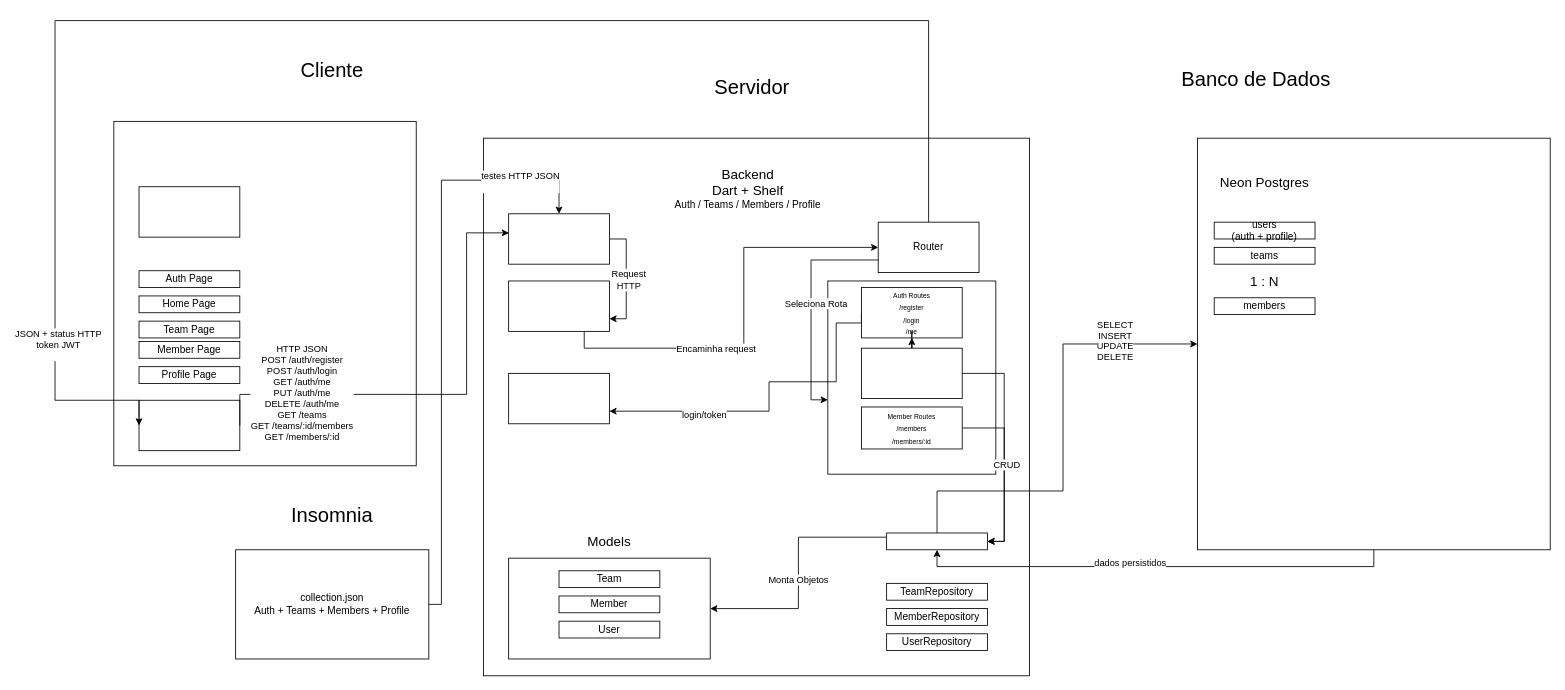
Some shapes in this 1565 by 690 pixel diagram are drawn without their labels. The box of each missing label's shape, as (x1, y1, x2, y2) in pixels:
ApiClient: (138, 399, 240, 451)
Auth Service JWT perfil do usuario: (508, 373, 609, 424)
CORS + Logs: (508, 280, 609, 331)
Flutter Web: (138, 186, 240, 237)
Pipeline: (508, 213, 609, 264)
Repositories: (886, 532, 987, 550)
Team Routes /teams /teams/:id /teams/:id/members: (861, 347, 962, 399)
